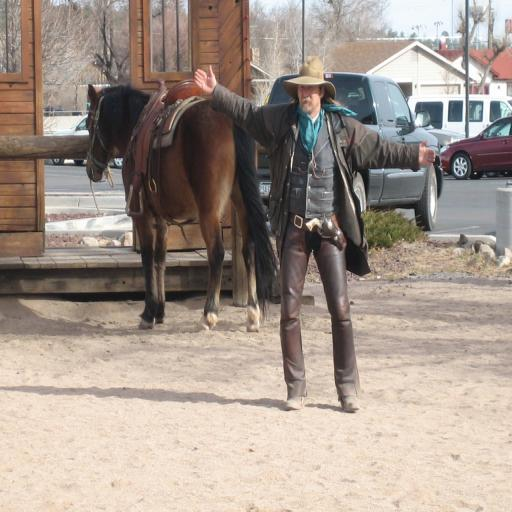horse: (86, 82, 280, 336)
